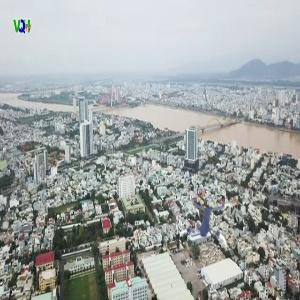drone: (178, 200, 235, 257)
